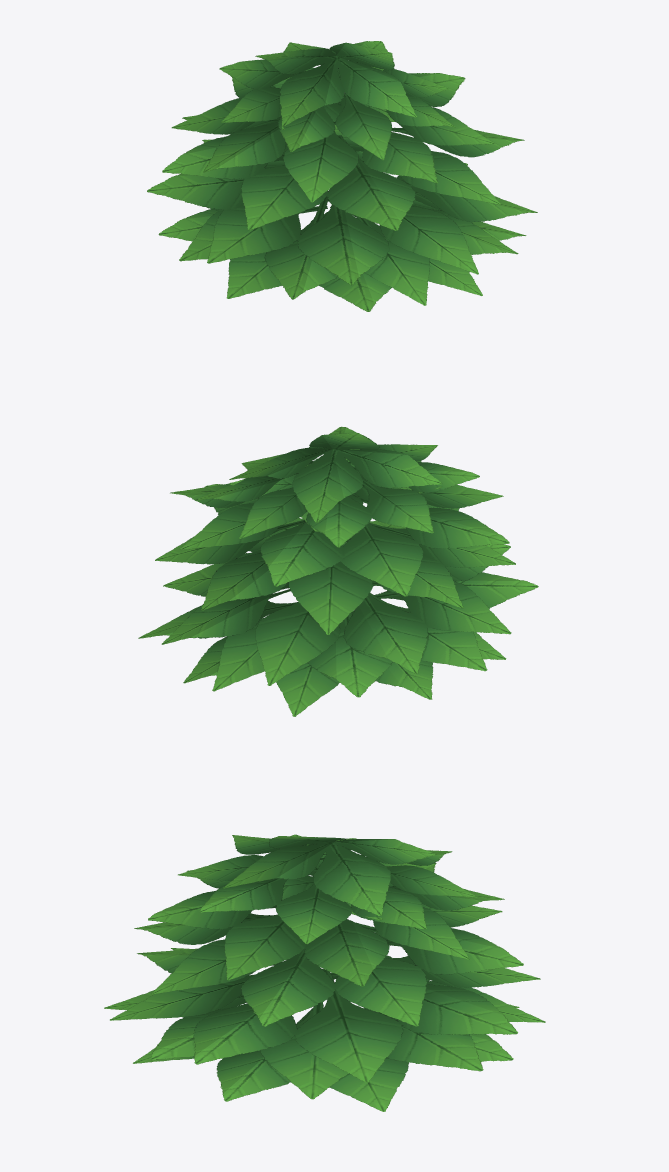
Rendered from the bush.fbx.
3 views of the same model, one above another, from view 1: azimuth 30°, elevation 25°; view 2: azimuth 150°, elevation 25°; view 3: azimuth 270°, elevation 25° (orthographic). The views are drawn at different scales.
Parts seen in each view (by area): view 1: Bush; view 2: Bush; view 3: Bush.
Part boxes in pixels (box(x1,y1,x2,y2)): Bush: box(147, 41, 537, 311); Bush: box(138, 426, 538, 716); Bush: box(104, 834, 545, 1111).
Size of the model in its own units: 244 by 91.5 by 261.
